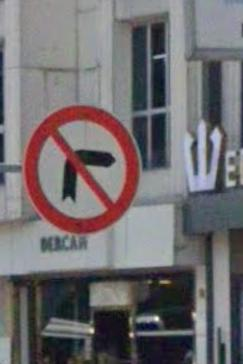rightturnsareforbidden: (25, 105, 139, 234)
